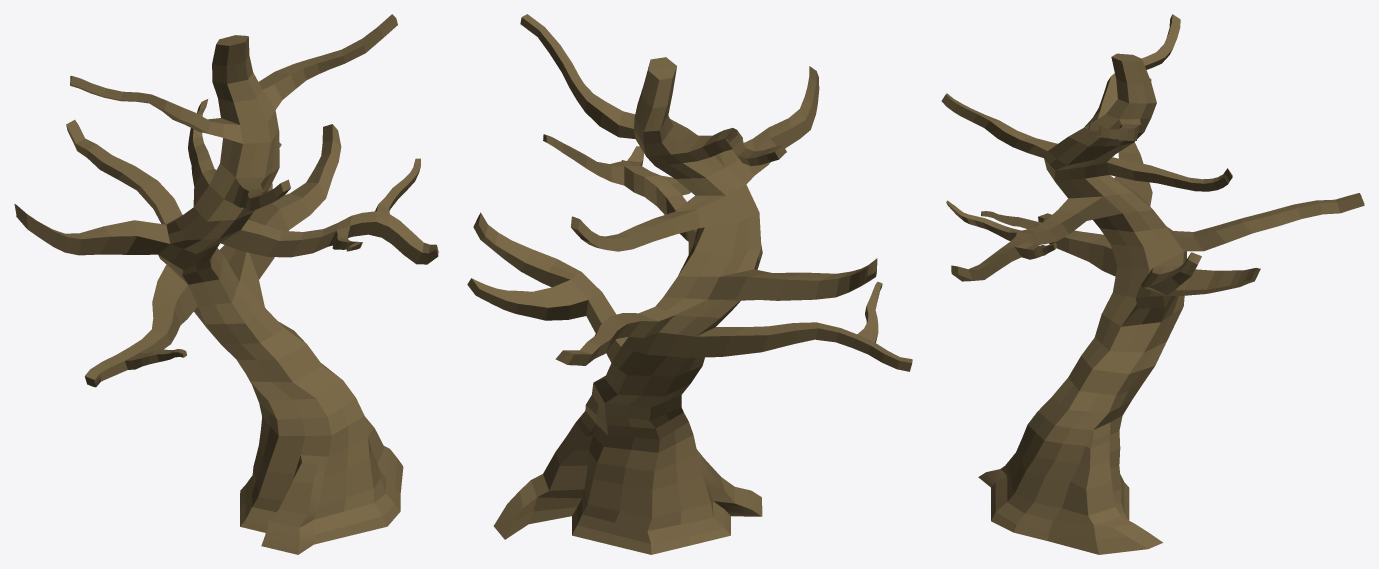
The model's file is Trunk.fbx.
3 views of the same model, side by side, from view 1: azimuth 30°, elevation 25°; view 2: azimuth 150°, elevation 25°; view 3: azimuth 270°, elevation 25° (orthographic). The views are drawn at different scales.
Visible parts, largest first — view 1: pCube2; view 2: pCube2; view 3: pCube2.
Part boxes in pixels (box(x1,y1,x2,y2)): pCube2: box(14, 14, 438, 554); pCube2: box(467, 14, 912, 554); pCube2: box(941, 14, 1364, 554).
Size of the model in its own units: 266 by 319 by 285.
